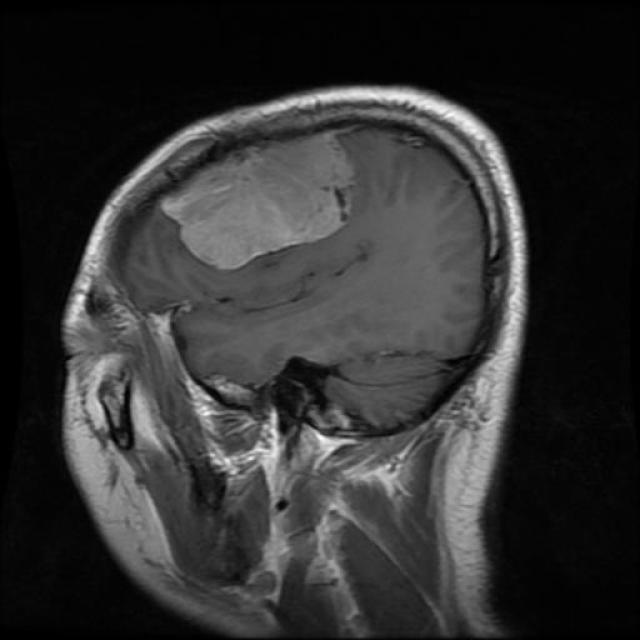meningioma: (161, 134, 352, 271)
